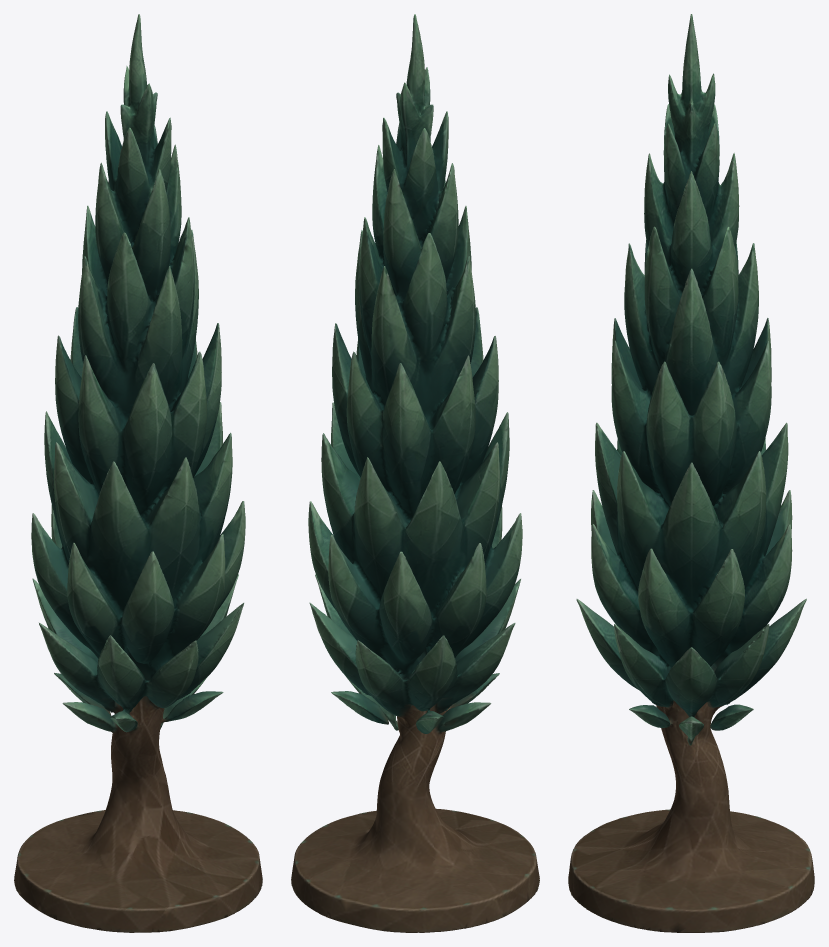
The model's file is Meshy_AI_Geometric_Evergreen_0905151304_texture.fbx.
3 views of the same model, side by side, from view 1: azimuth 30°, elevation 25°; view 2: azimuth 150°, elevation 25°; view 3: azimuth 270°, elevation 25° (orthographic).
Visible parts, largest first — view 1: mesh_node; view 2: mesh_node; view 3: mesh_node.
Boxes of the visible parts, left/top/right/bottom form: mesh_node: left=14, top=14, right=262, bottom=932; mesh_node: left=291, top=14, right=539, bottom=932; mesh_node: left=568, top=14, right=814, bottom=932.
Bounding box in the file's own units: 48.84 × 190 × 48.88.
Materials: 1 (1 with a texture image).
